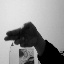h: (3, 21, 41, 48)
